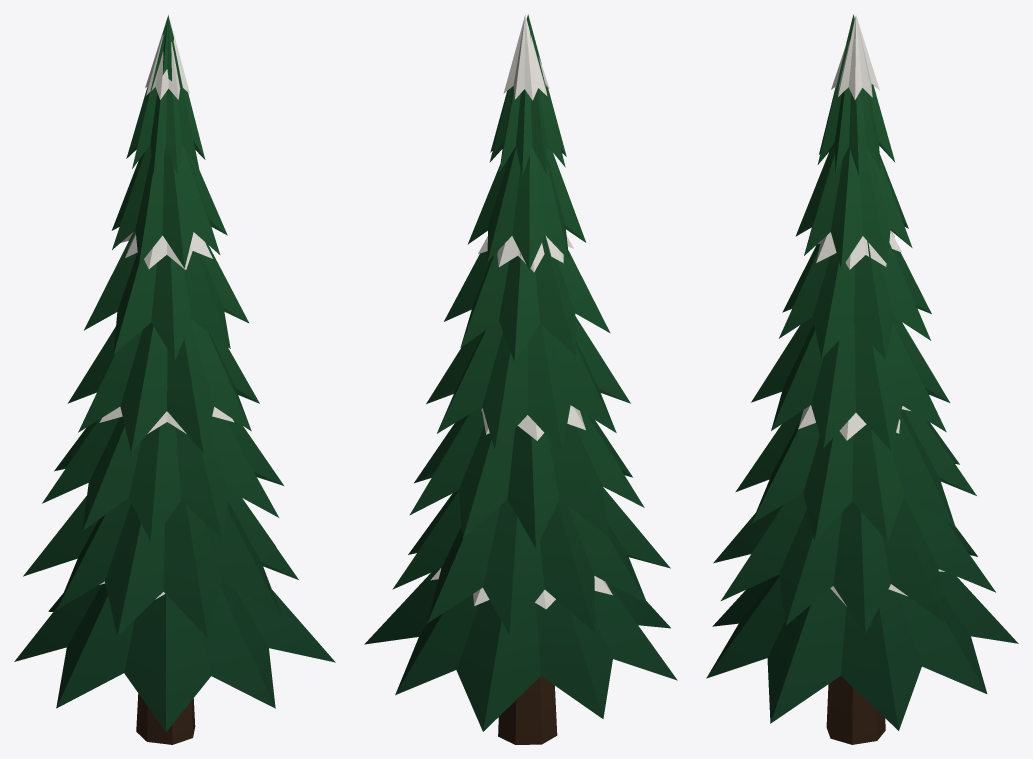
Rendered from tree_alpine_pine_03.glb.
3 renders of one model, left to right at view 1: azimuth 30°, elevation 25°; view 2: azimuth 150°, elevation 25°; view 3: azimuth 270°, elevation 25°, orthographic.
Visible parts, largest first — view 1: tree_alpine_pine_03_LOD0; view 2: tree_alpine_pine_03_LOD0; view 3: tree_alpine_pine_03_LOD0.
Part boxes in pixels (bbox=[...]): tree_alpine_pine_03_LOD0: bbox=[14, 14, 335, 744]; tree_alpine_pine_03_LOD0: bbox=[364, 14, 677, 744]; tree_alpine_pine_03_LOD0: bbox=[706, 14, 1018, 744].
Size of what is drawn, in the model's own units: 2.54 by 6.4 by 2.52.
1 material, 1 textured.
